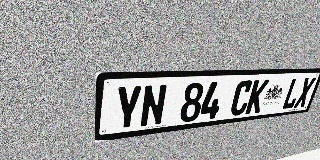4: (199, 81, 225, 120)
8: (179, 82, 206, 123)
C: (229, 80, 254, 116)
K: (245, 79, 270, 114)
L: (281, 78, 304, 110)
N: (139, 84, 168, 128)
X: (293, 77, 316, 108)
Y: (114, 85, 143, 131)
